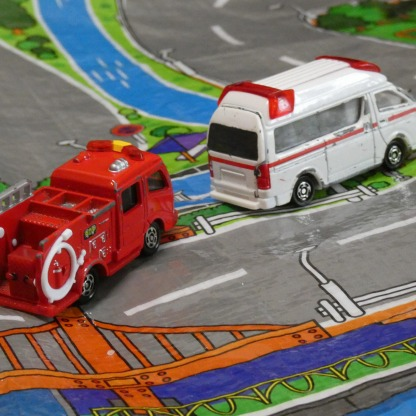car: (202, 57, 416, 216), (0, 139, 177, 318)
